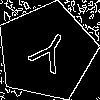Y: (21, 27, 74, 83)
